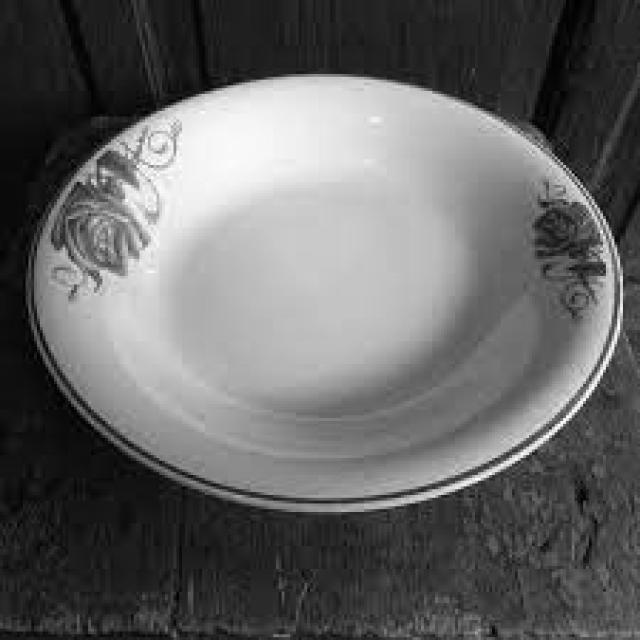dish: (19, 38, 636, 544)
